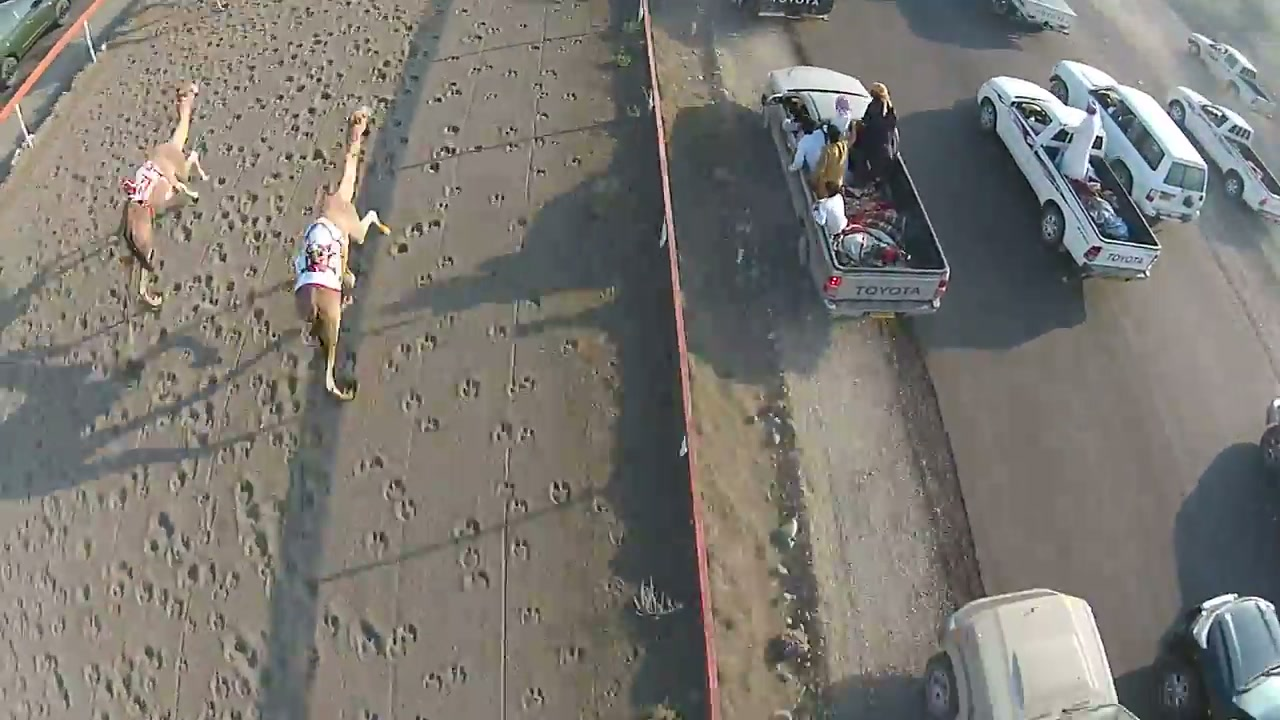animal_foot_print: (104, 12, 368, 719), (302, 0, 504, 715)
